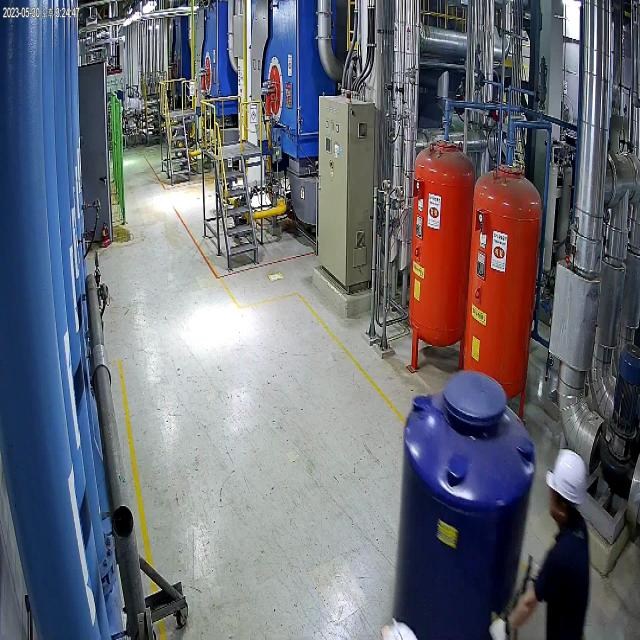Water Tank: (388, 361, 540, 640)
worker: (497, 439, 607, 640)
